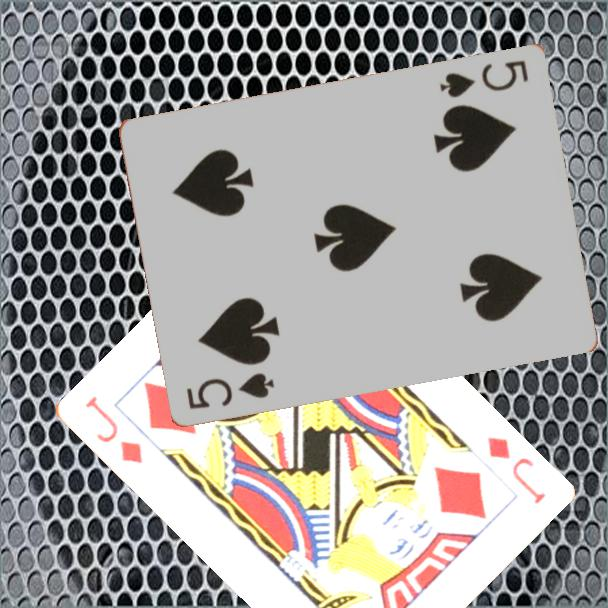d11: (482, 433, 548, 507), (81, 392, 145, 467)
s05: (436, 56, 532, 100), (183, 369, 278, 412)
